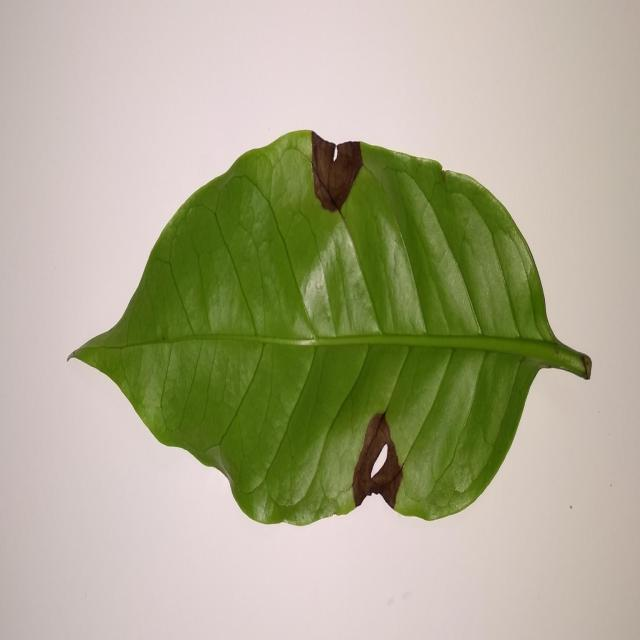Enfermedad-Antracnosis: (67, 131, 593, 529)
